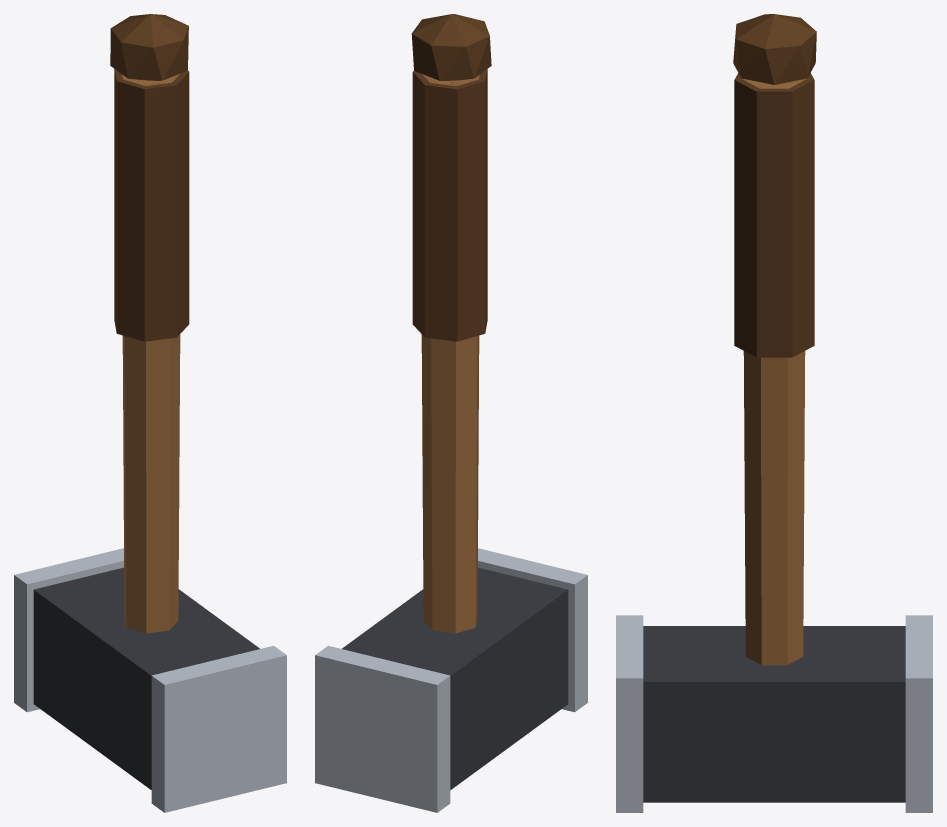
The model's file is held_hammer.glb.
The picture shows the model from 3 angles, left to right: view 1: azimuth 30°, elevation 25°; view 2: azimuth 150°, elevation 25°; view 3: azimuth 270°, elevation 25°; orthographic projection. The views are drawn at different scales.
Parts seen in each view (by area): view 1: held_hammer; view 2: held_hammer; view 3: held_hammer.
Part boxes in pixels (x1,y1,x2,y2): held_hammer: [14, 14, 286, 812]; held_hammer: [315, 14, 587, 812]; held_hammer: [616, 14, 932, 812].
Bounding box in the file's own units: 0.076 × 0.433 × 0.162.
